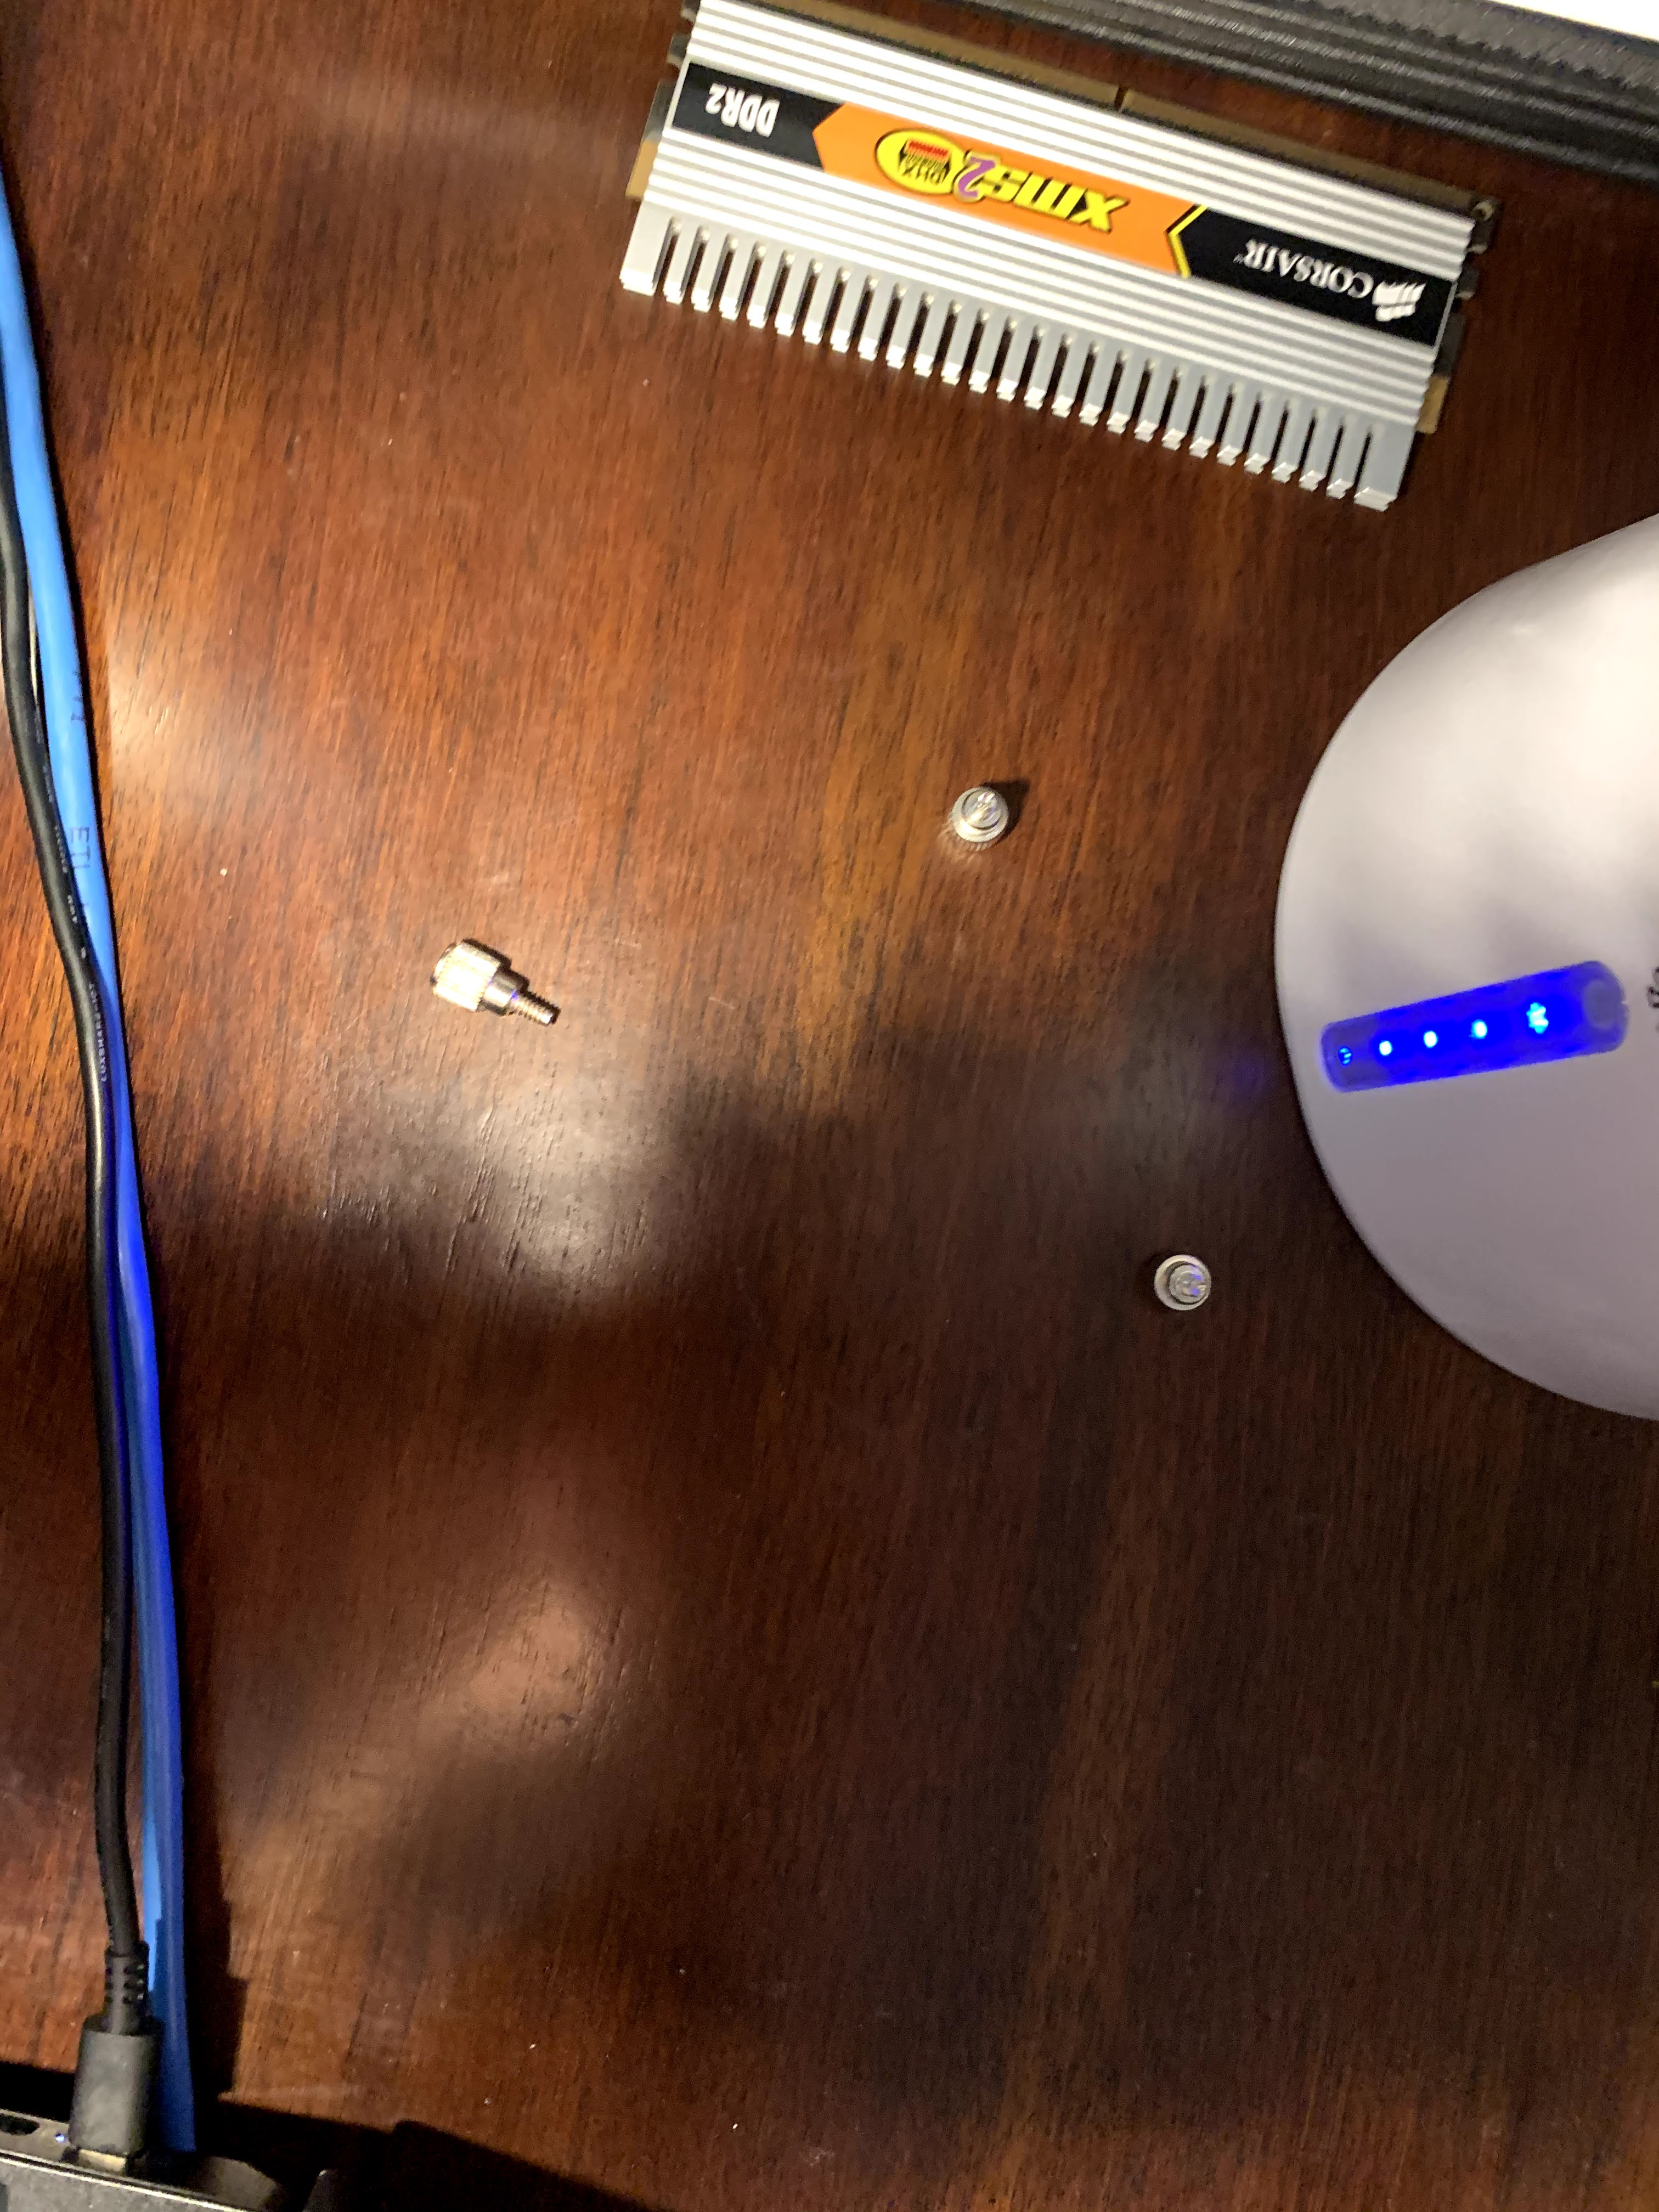Space-debris-medium: (605, 2, 1520, 512)
Space-debris-small: (418, 911, 566, 1035), (936, 765, 1023, 866), (1140, 1237, 1230, 1332)
